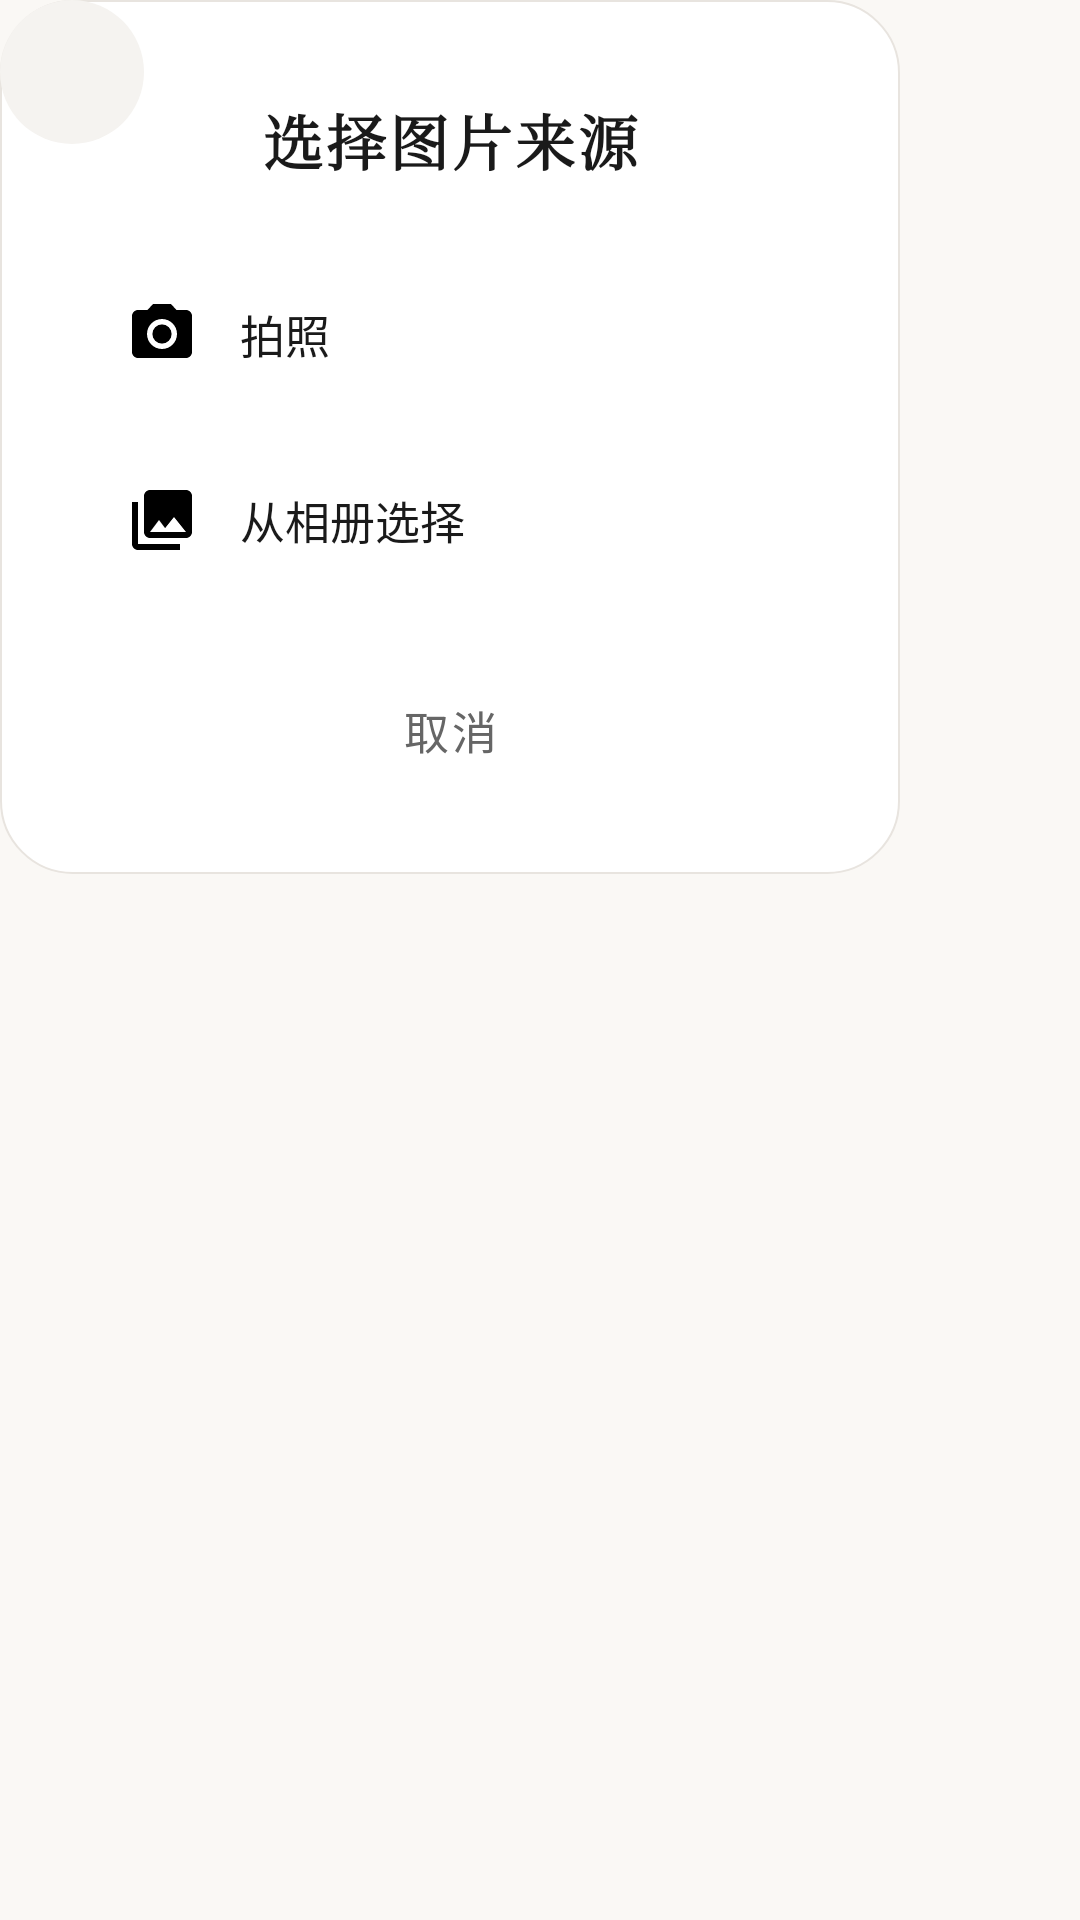

Screen size 1080×1920. Icon name, then its center in pixels as (x=x, y=y):
photo library: (x=162, y=520)
